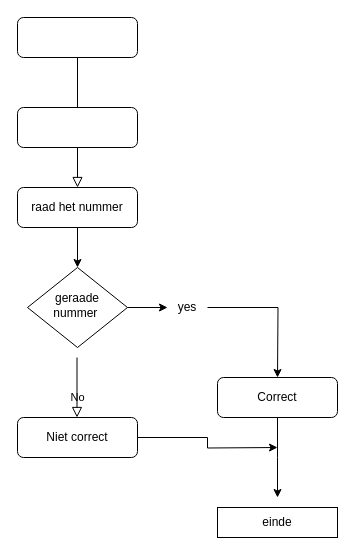
The diagram is 355 pixels wide and 555 high, and some of its shapes have lost their labels. Here are the shapes that lost their labels. From the top down, the box of each, then its label:
(16, 16, 138, 58): START
(16, 106, 138, 148): Nummer=?
